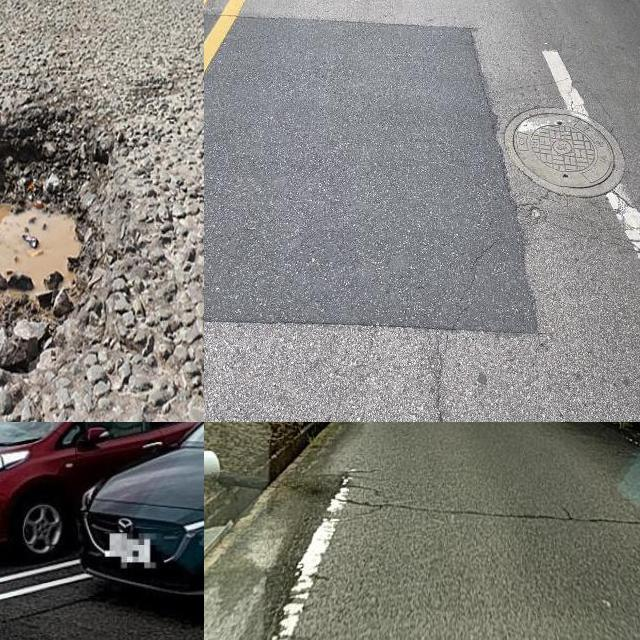Lubang: (0, 110, 119, 377)
Melintang: (354, 488, 640, 544), (0, 586, 100, 634)
Sambungan: (204, 13, 545, 333)
